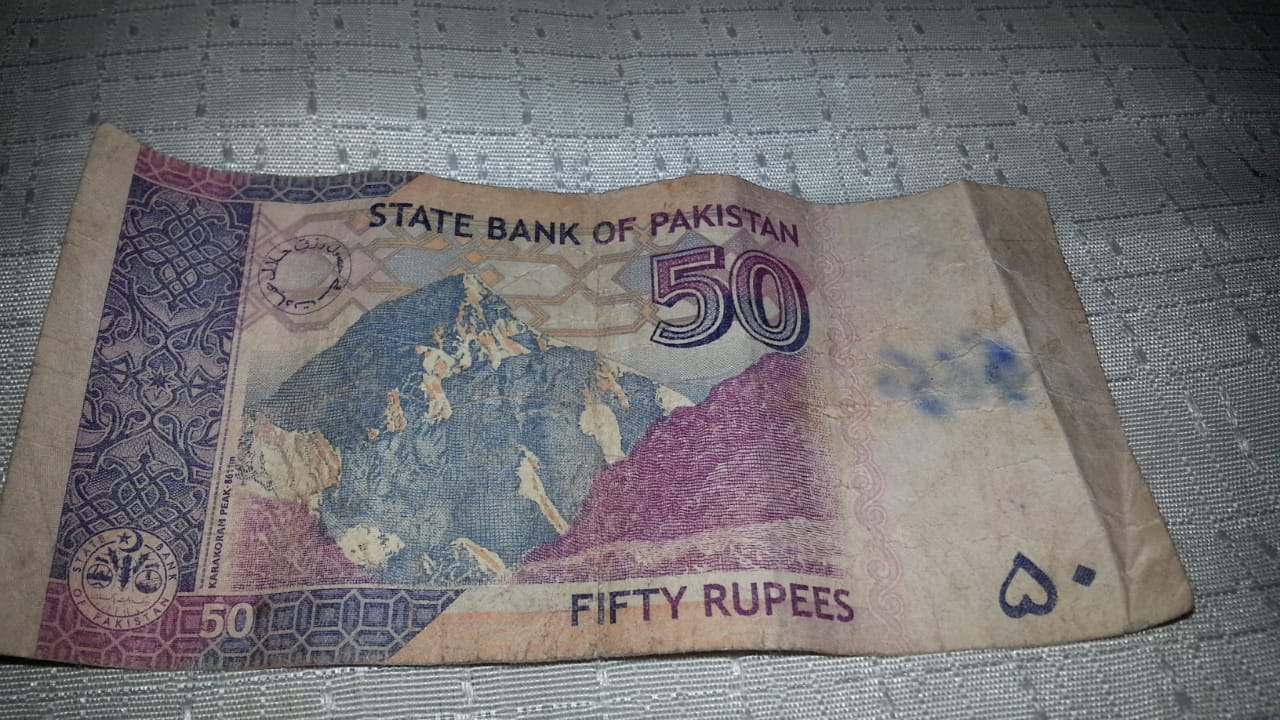50 rupee: (6, 122, 1201, 656)
